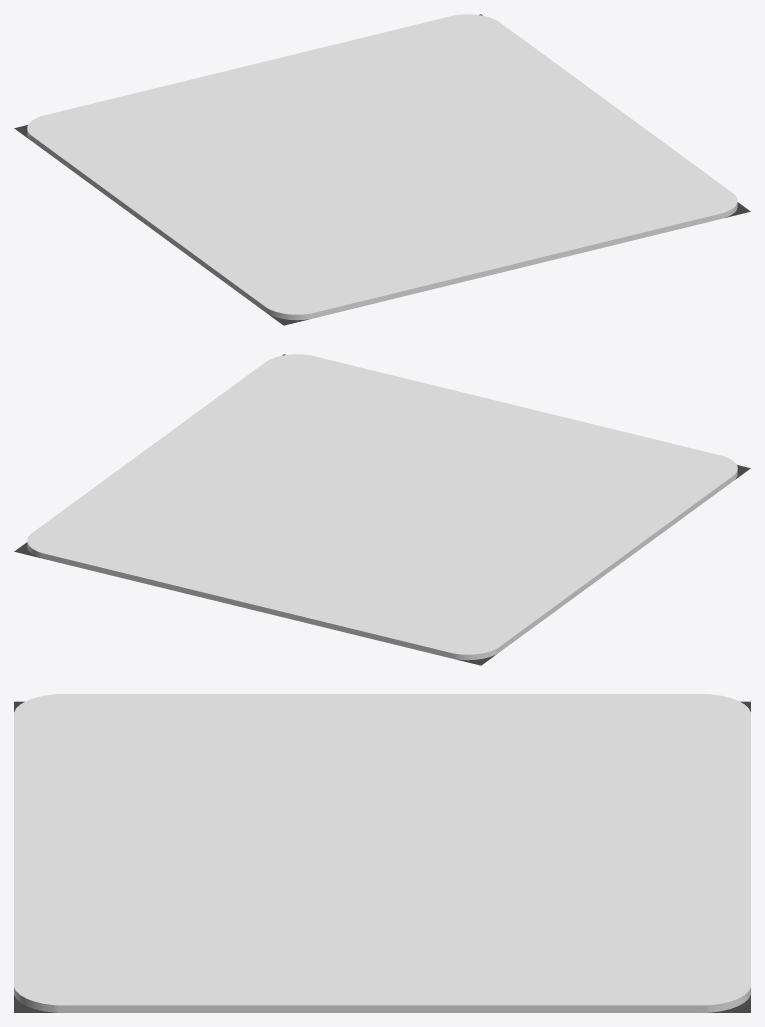
File: pavement intersection circle.fbx
3 renders of one model, top to bottom at view 1: azimuth 30°, elevation 25°; view 2: azimuth 150°, elevation 25°; view 3: azimuth 270°, elevation 25°, orthographic. The views are drawn at different scales.
Parts seen in each view (by area): view 1: pavement_intersection_circle; view 2: pavement_intersection_circle; view 3: pavement_intersection_circle.
Part boxes in pixels (bbox=[...]): pavement_intersection_circle: bbox=[14, 14, 750, 325]; pavement_intersection_circle: bbox=[14, 354, 750, 665]; pavement_intersection_circle: bbox=[14, 694, 750, 1012].
Size of the model in its own units: 1000 by 11.2 by 1000.
